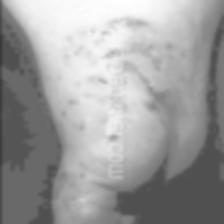Unclassified: (144, 86, 174, 111), (138, 41, 164, 55), (102, 44, 116, 58)
